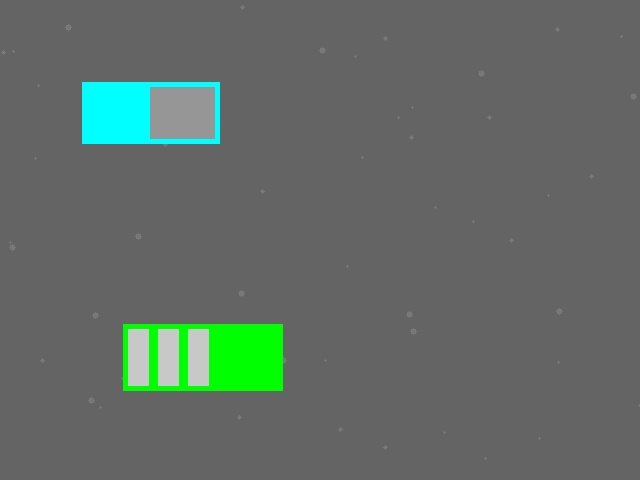bus: (123, 324, 282, 390)
truck: (82, 82, 219, 143)
